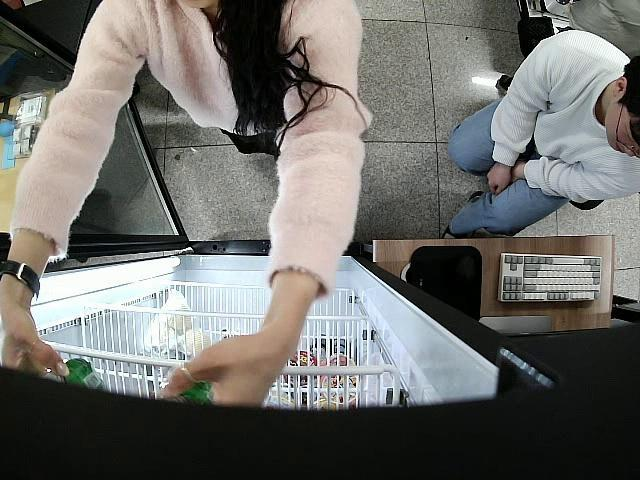18_trevi: (34, 354, 109, 398), (164, 376, 212, 404)
